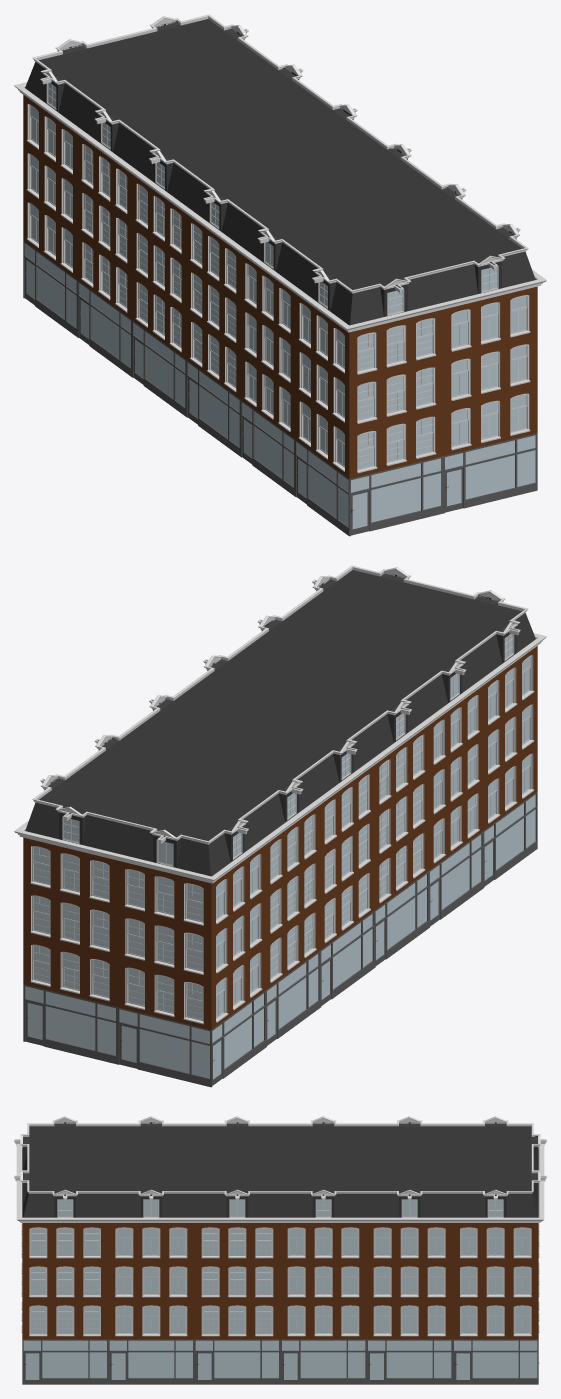
Rendered from 6x2_Commercial.fbx.
The picture shows the model from 3 angles, top to bottom: view 1: azimuth 30°, elevation 25°; view 2: azimuth 150°, elevation 25°; view 3: azimuth 270°, elevation 25°; orthographic projection. The views are drawn at different scales.
Parts seen in each view (by area): view 1: 6x2 Commercial; view 2: 6x2 Commercial; view 3: 6x2 Commercial.
Part boxes in pixels (x1,y1,x2,y2): 6x2 Commercial: [14, 14, 546, 536]; 6x2 Commercial: [14, 565, 546, 1087]; 6x2 Commercial: [14, 1116, 546, 1384].
Size of the model in its own units: 13.14 by 15 by 37.14.
